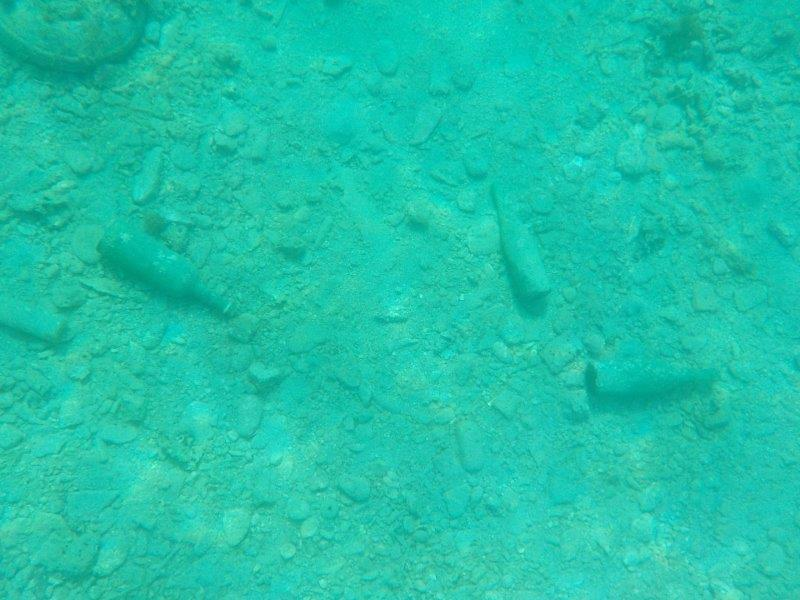bottle: (91, 218, 241, 322), (484, 176, 554, 305), (582, 350, 725, 400)
